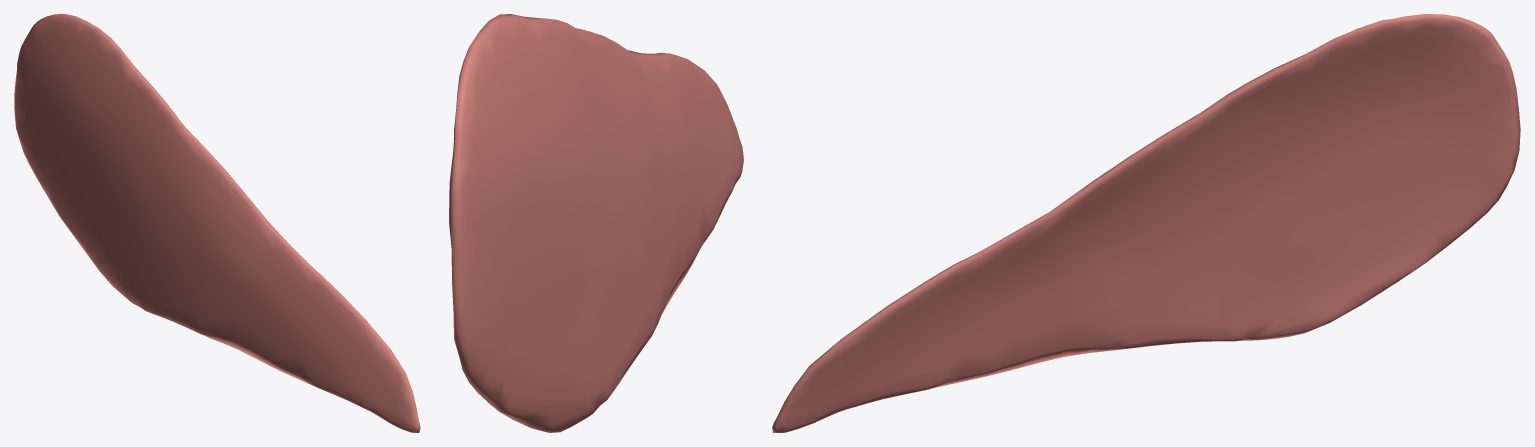
The picture shows the model from 3 angles, left to right: view 1: azimuth 30°, elevation 25°; view 2: azimuth 150°, elevation 25°; view 3: azimuth 270°, elevation 25°; orthographic projection. The views are drawn at different scales.
Visible parts, largest first — view 1: ZA_9a70d39d00ad9a42; view 2: ZA_9a70d39d00ad9a42; view 3: ZA_9a70d39d00ad9a42.
Boxes of the visible parts, bbox=[...] form: ZA_9a70d39d00ad9a42: bbox=[14, 14, 420, 432]; ZA_9a70d39d00ad9a42: bbox=[449, 14, 743, 432]; ZA_9a70d39d00ad9a42: bbox=[772, 14, 1520, 432].
Size of the model in its own units: 0.00969 by 0.0188 by 0.0358.
